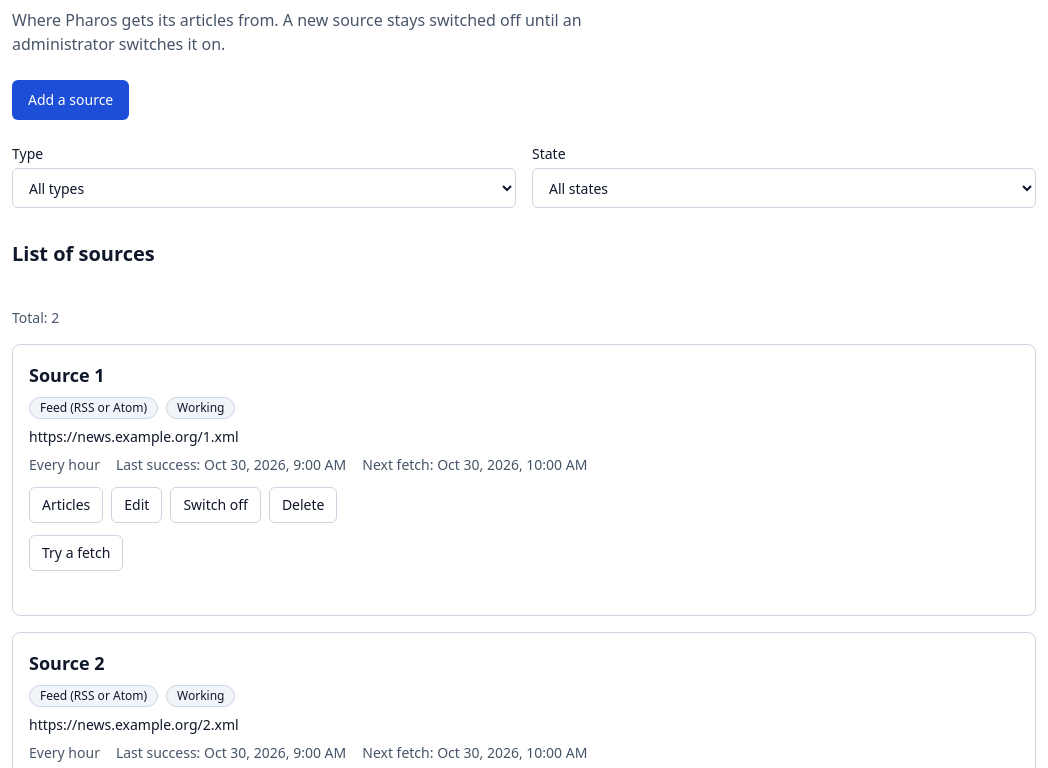
Test: switching on and off › tells a refusal as an alert
This screenshot has width=1048, height=768.
Click the button "Switch off".
click(216, 505)  # box [170,487,261,523]
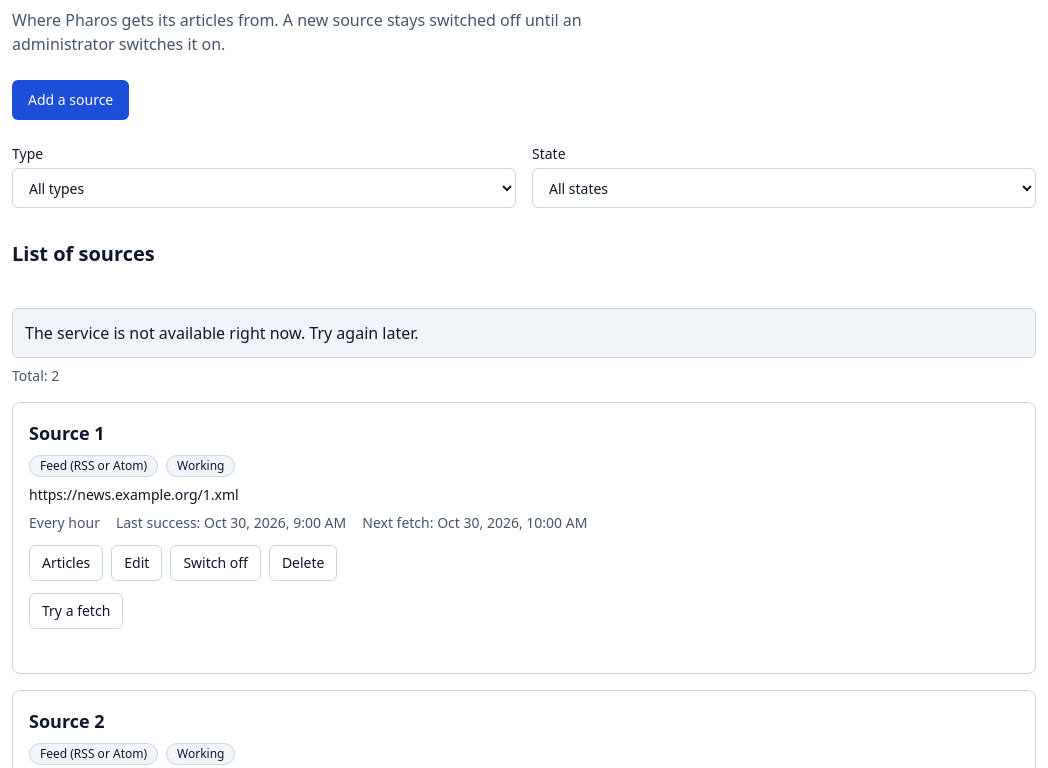
Expected: the message "The service is not available right now. Try again later." is shown, [12,308,1036,358]
